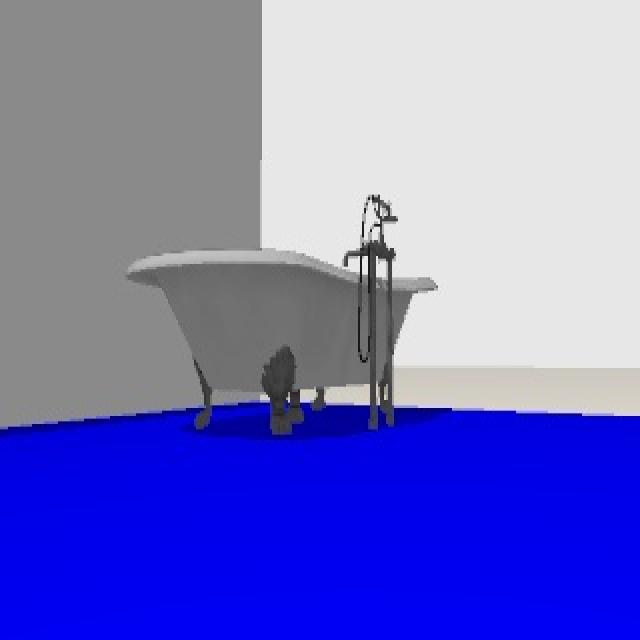bathtub: (134, 188, 439, 429)
